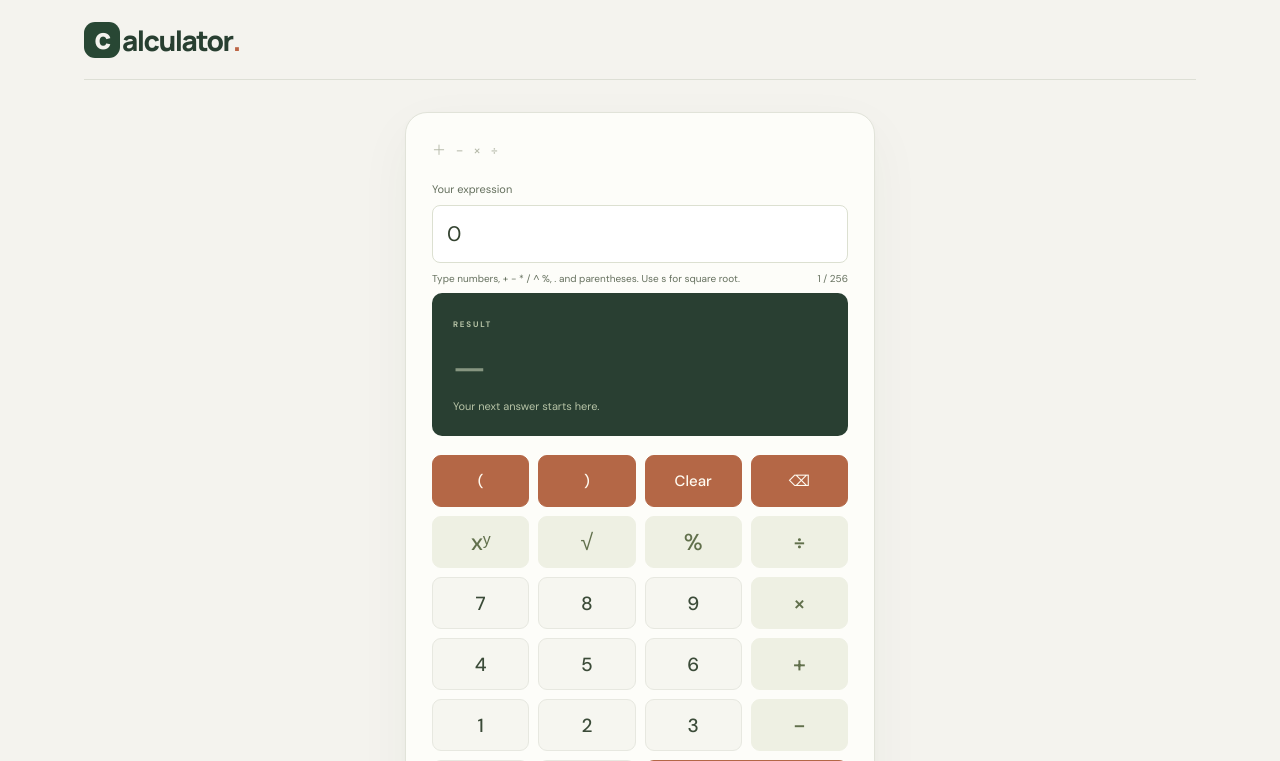
Test: calculator form › handles the initial and cleared zero with the Open parenthesis keypad key
The image size is (1280, 761).
Click the button named "Open parenthesis".
click(481, 481)  # box [432,455,529,507]
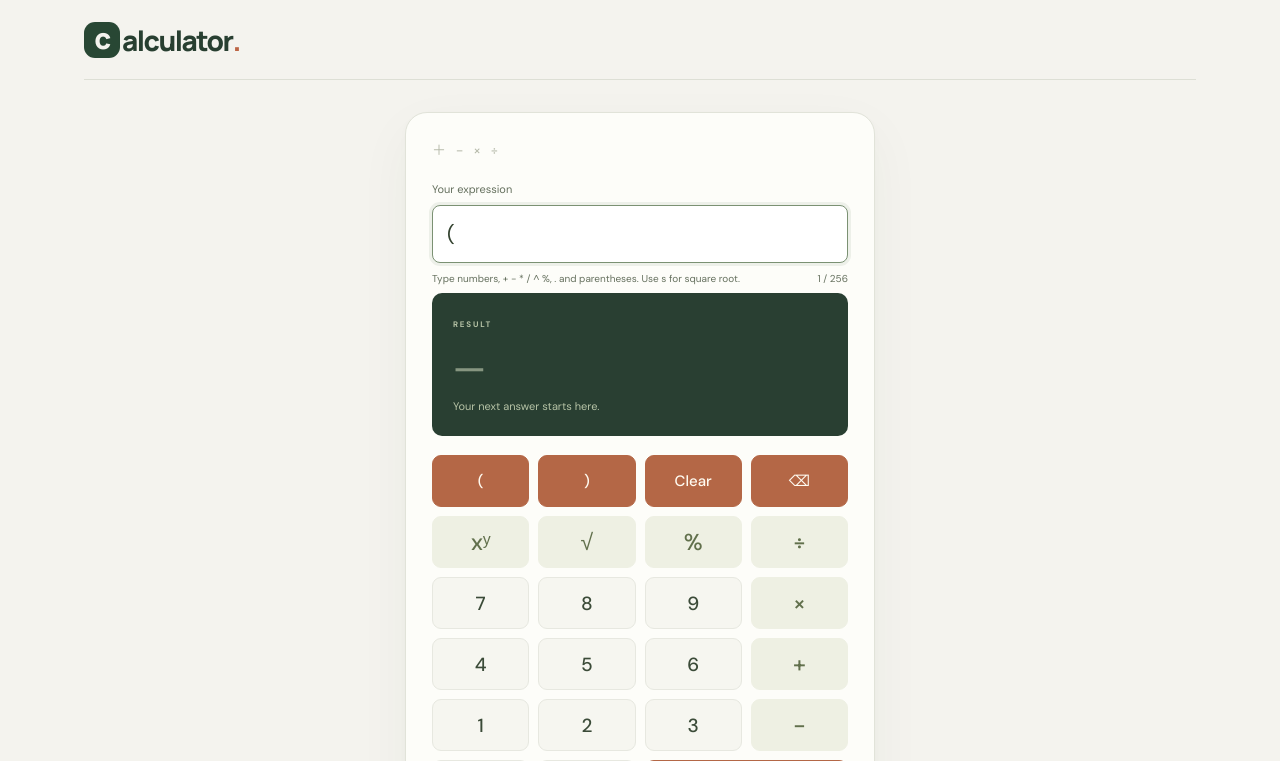
Expected: the field labelled "Your expression" holds "(", [432,205,848,263]
Click the button "Clear".
click(693, 481)  # box [644,455,742,507]
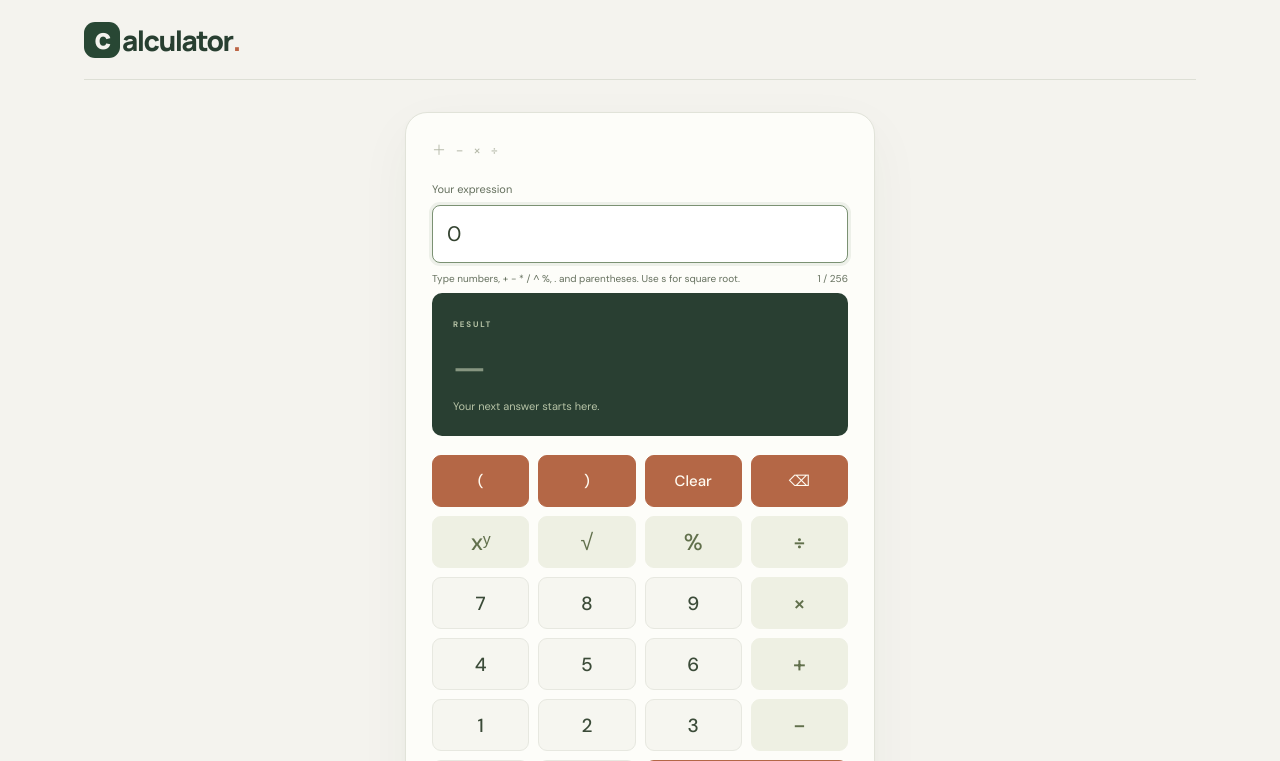
Click the button named "Open parenthesis".
click(481, 481)  # box [432,455,529,507]
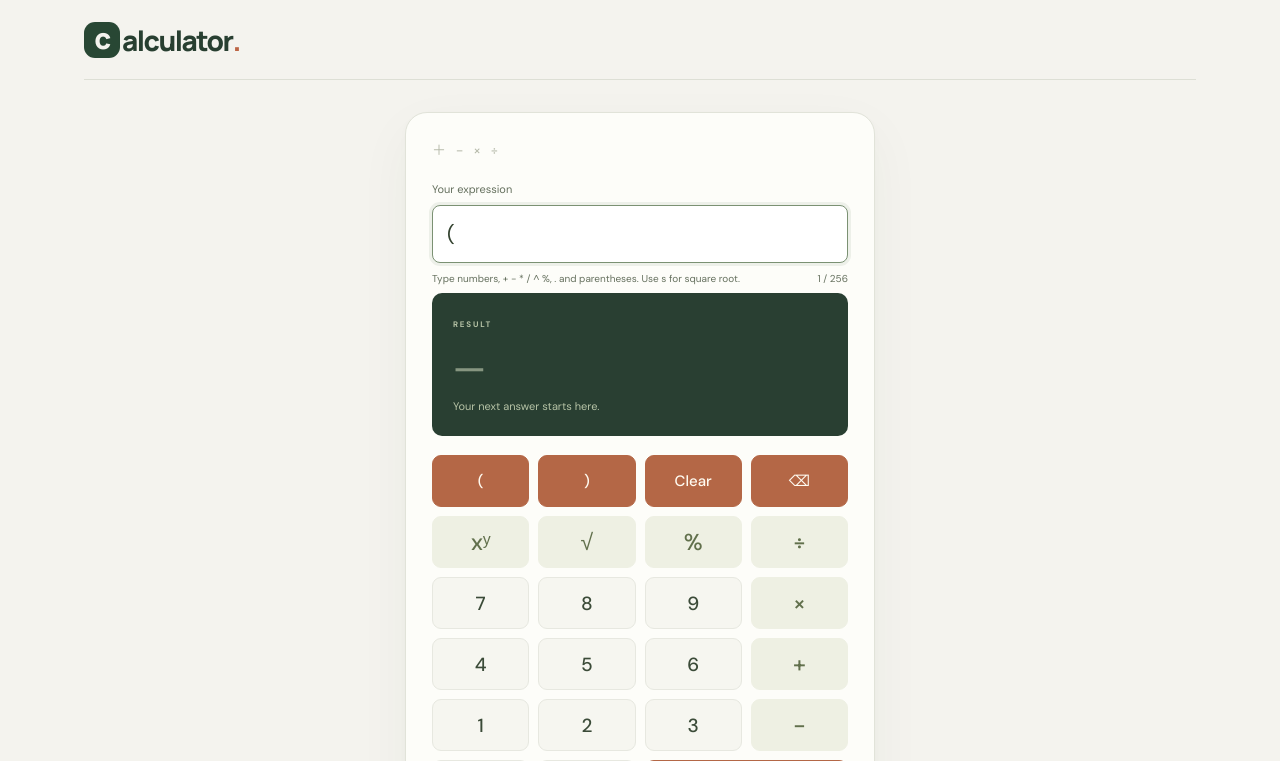
Expected: the field labelled "Your expression" holds "(", [432,205,848,263]
